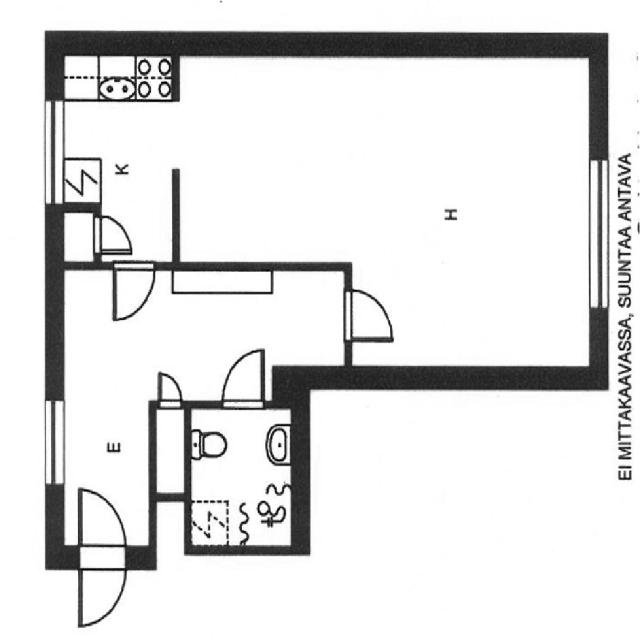door: (73, 485, 132, 627), (75, 555, 128, 629), (338, 280, 400, 342), (217, 344, 269, 411), (110, 257, 158, 321), (90, 210, 134, 256), (151, 366, 187, 411)
window: (580, 144, 616, 321), (36, 92, 63, 212), (38, 390, 68, 496)
zone: (176, 38, 606, 267), (61, 269, 153, 561), (48, 58, 177, 252), (152, 264, 347, 388), (187, 401, 297, 551), (63, 49, 176, 102)
